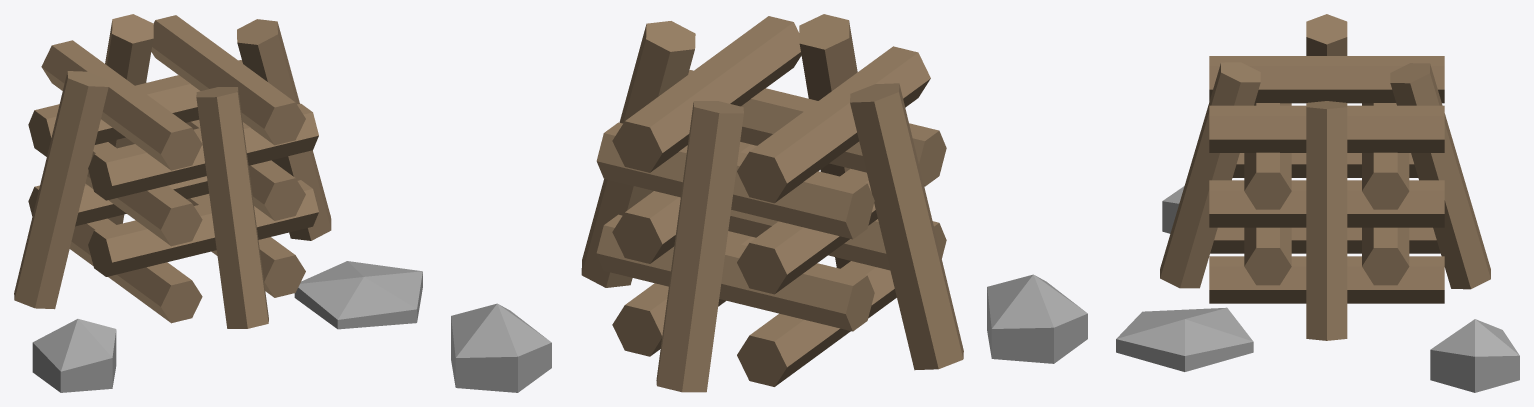
Rendered from env_Campfire.fbx.
3 views of the same model, side by side, from view 1: azimuth 30°, elevation 25°; view 2: azimuth 150°, elevation 25°; view 3: azimuth 270°, elevation 25° (orthographic). The views are drawn at different scales.
Visible parts, largest first — view 1: env_Campfire_01; view 2: env_Campfire_01; view 3: env_Campfire_01.
Part boxes in pixels (x1,y1,x2,y2): env_Campfire_01: (14, 14, 422, 392); env_Campfire_01: (451, 14, 1087, 392); env_Campfire_01: (1116, 14, 1519, 392).
Size of the model in its own units: 248 by 154 by 232.
